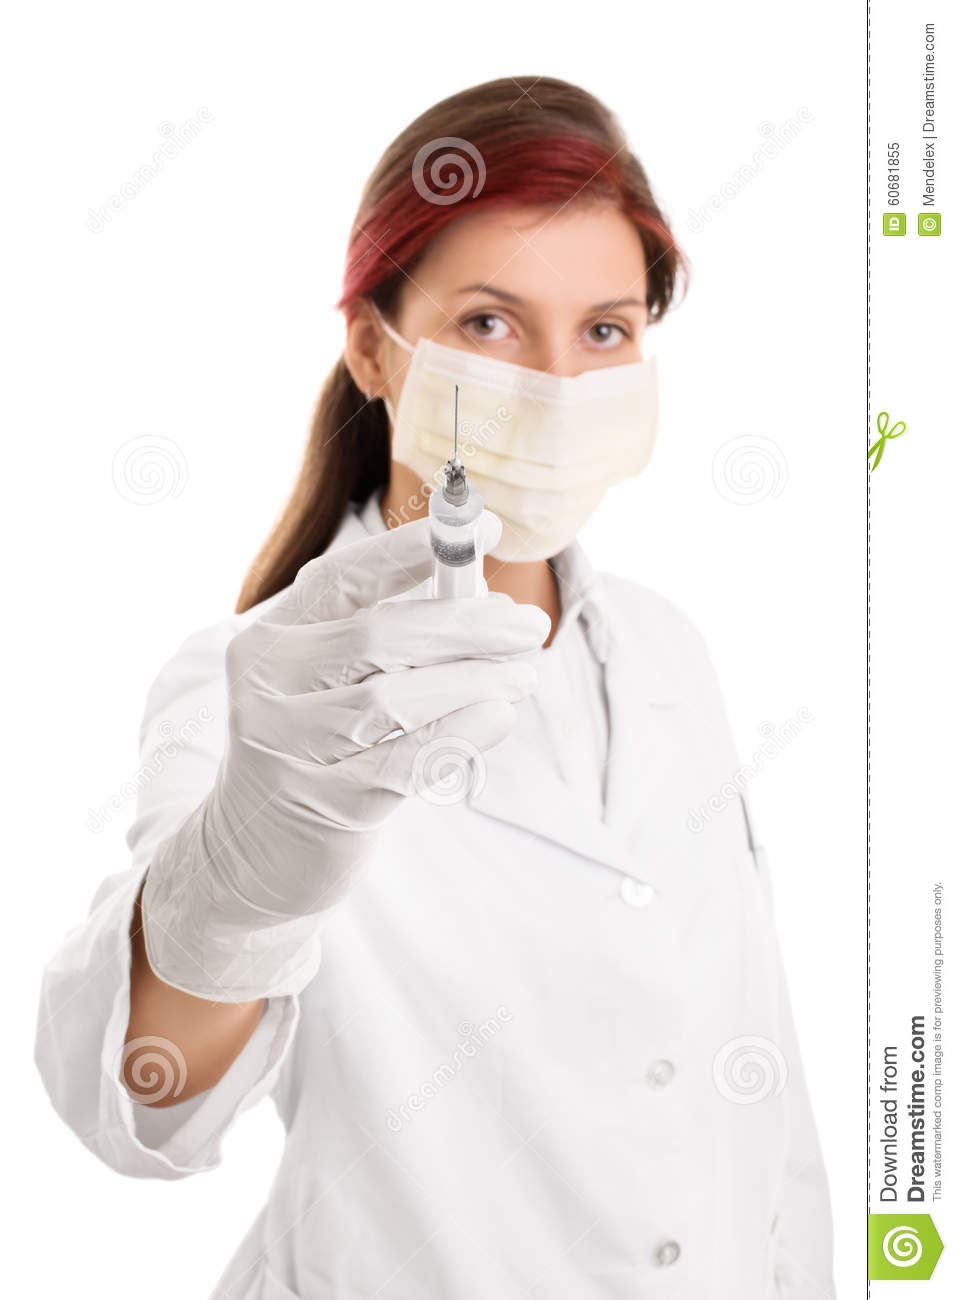mask: (393, 336, 660, 567)
